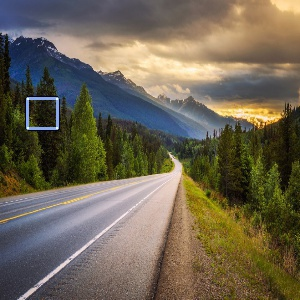square: (22, 93, 64, 132)
